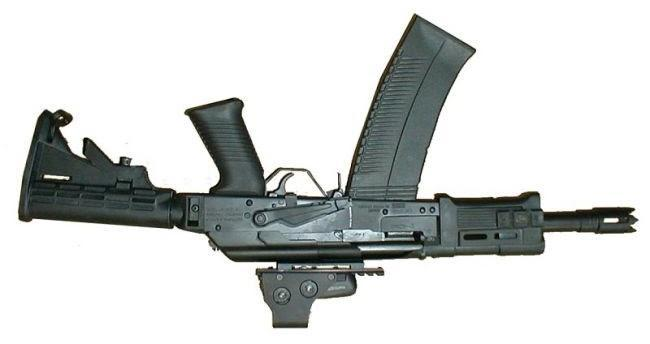larga: (17, 12, 640, 330)
